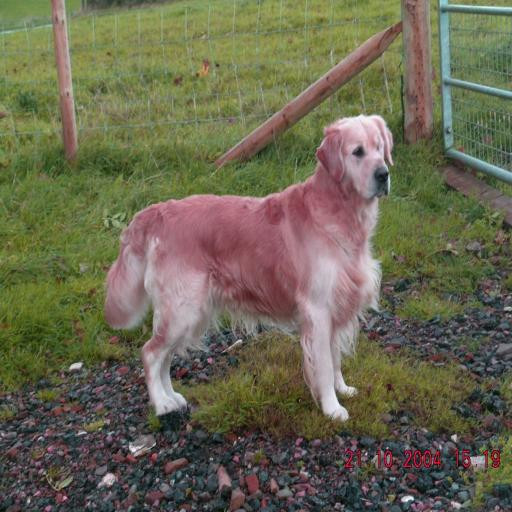dog_face: (318, 115, 403, 211)
